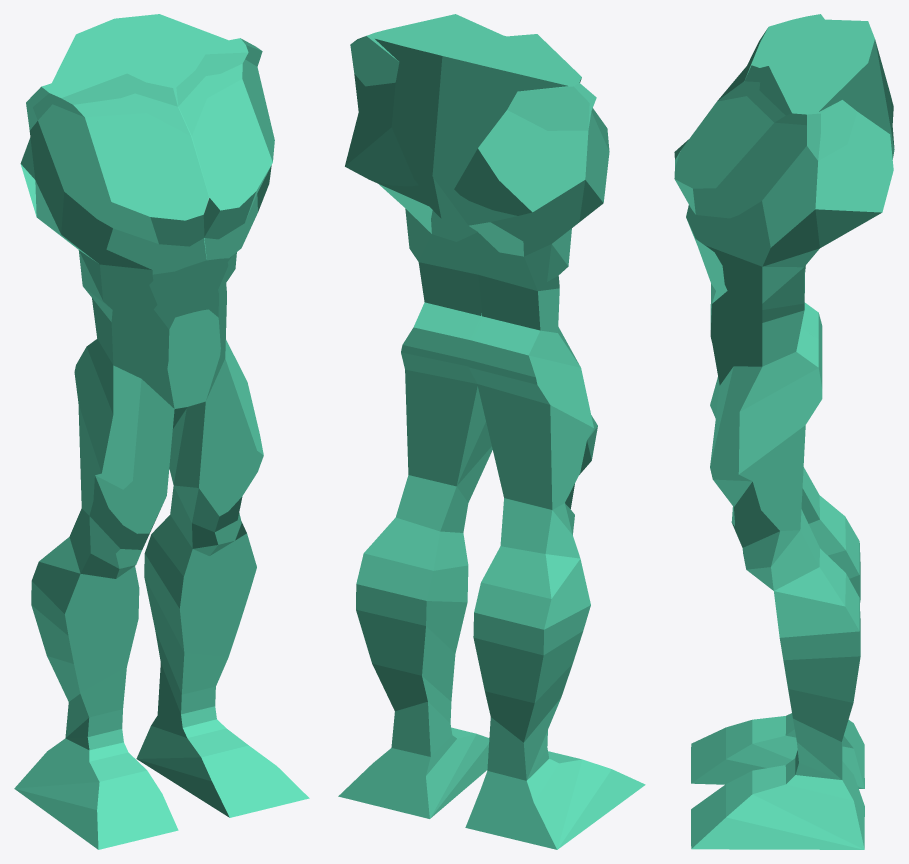
The model's file is deadpool.gltf.
3 renders of one model, left to right at view 1: azimuth 30°, elevation 25°; view 2: azimuth 150°, elevation 25°; view 3: azimuth 270°, elevation 25°, orthographic. The views are drawn at different scales.
Parts seen in each view (by area): view 1: Piano.008_Piano.010; view 2: Piano.008_Piano.010; view 3: Piano.008_Piano.010.
Part boxes in pixels (<box>): Piano.008_Piano.010: <box>14,14,309,849</box>; Piano.008_Piano.010: <box>338,14,645,849</box>; Piano.008_Piano.010: <box>674,14,894,849</box>.
Size of the model in its own units: 0.7086 by 2.18 by 0.5735.
